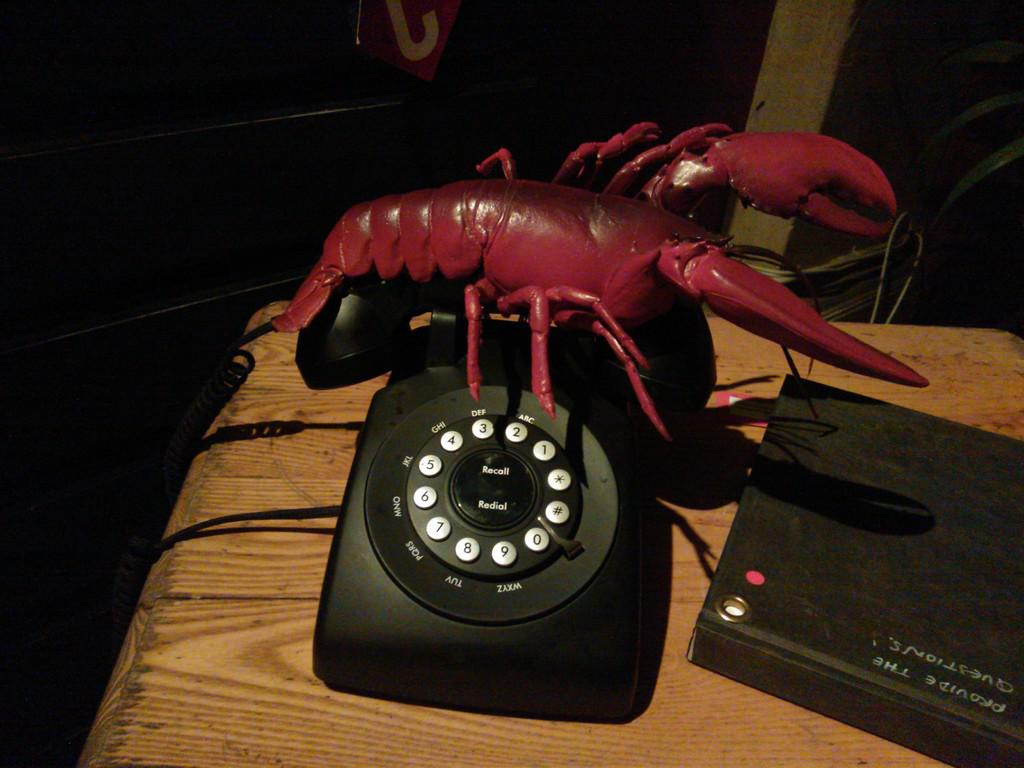Lobster: (266, 115, 936, 442)
